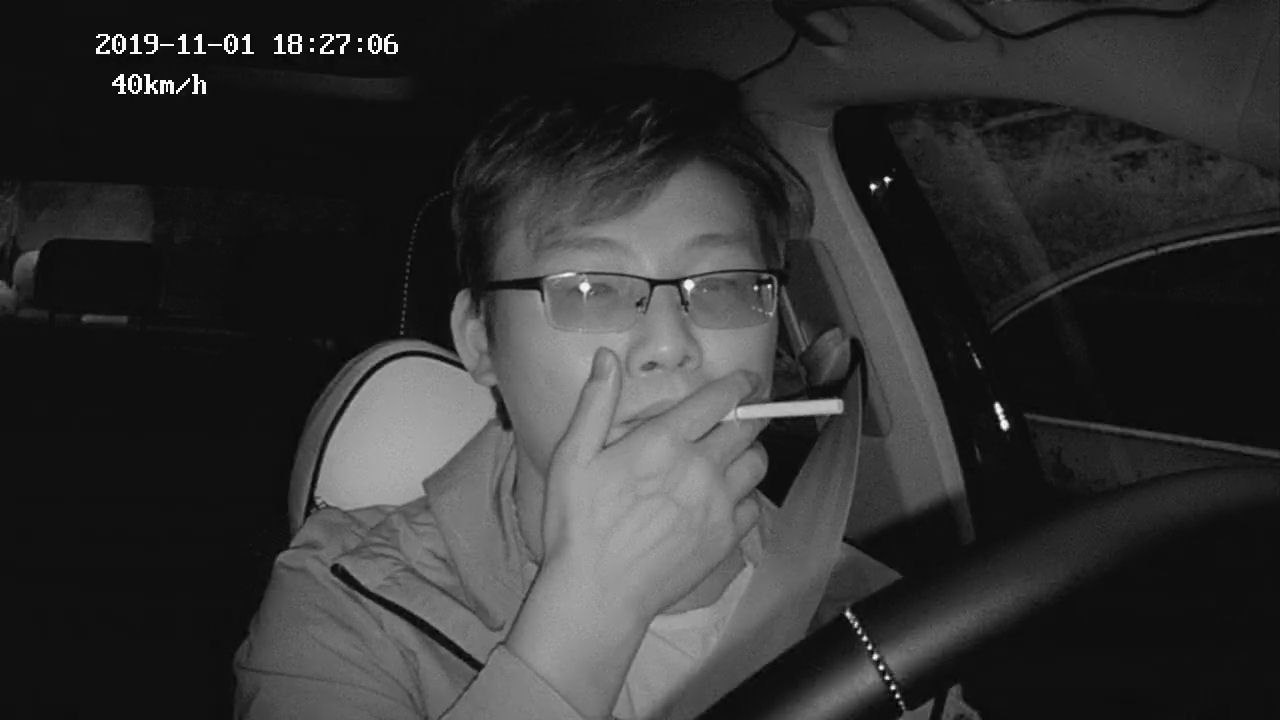smoke: (481, 174, 801, 494)
